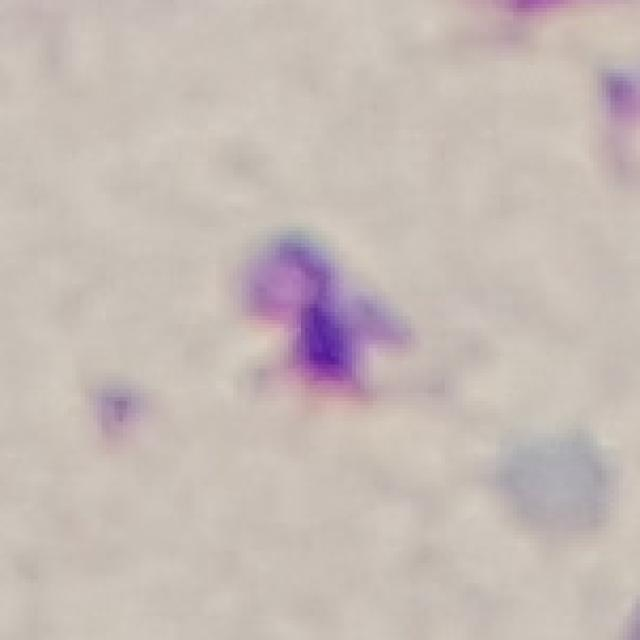non-sperm: (237, 235, 381, 391)
